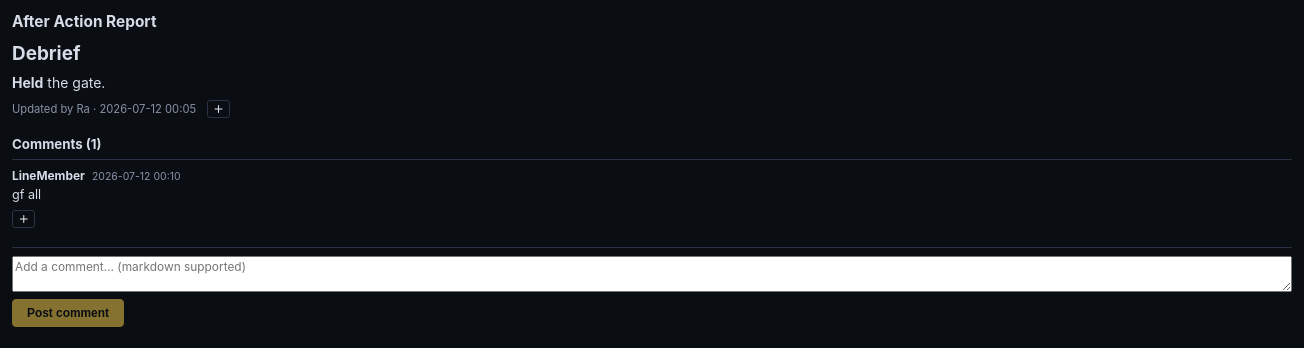
AarPanel › toggles a reaction and shows the updated count
The image size is (1304, 348).
Expected: the element with test id "aar-body" is shown, [12,42,105,91]
// Open the comment's reaction palette and pick o7.
What coordinates should you click on to do the following:
click the button named "Add reaction"
I would click on:
 (24, 219)
Its box is [12,210,35,228].
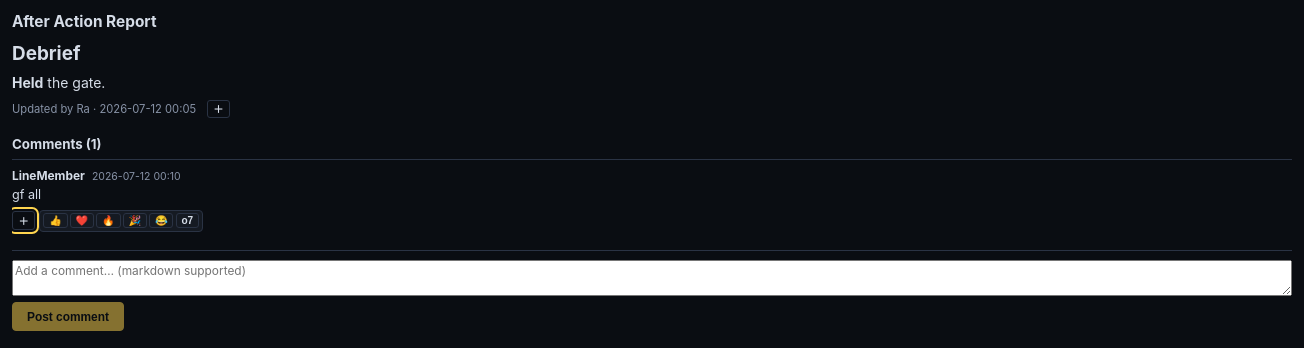
What coordinates should you click on to do the following:
click the button "o7"
I would click on:
 (187, 221)
Its box is [176,213,199,228].
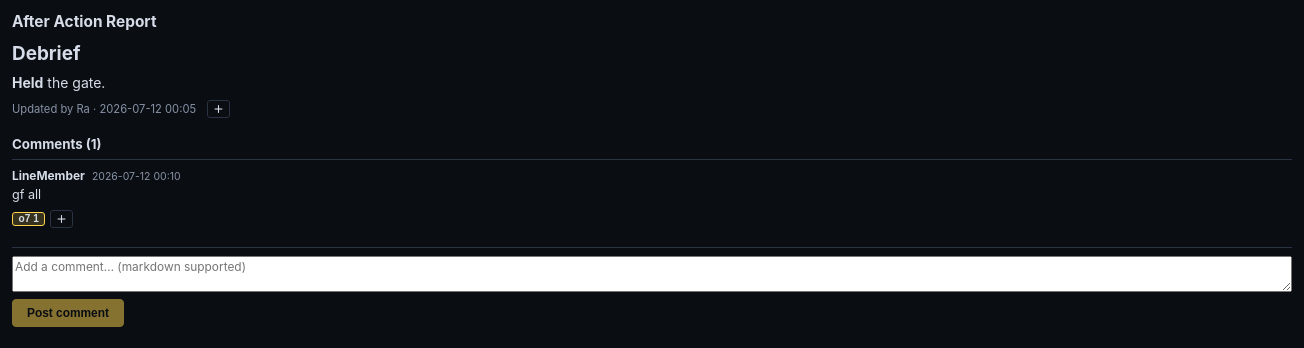
Expected: the text "1" is shown, [33,213,39,224]
